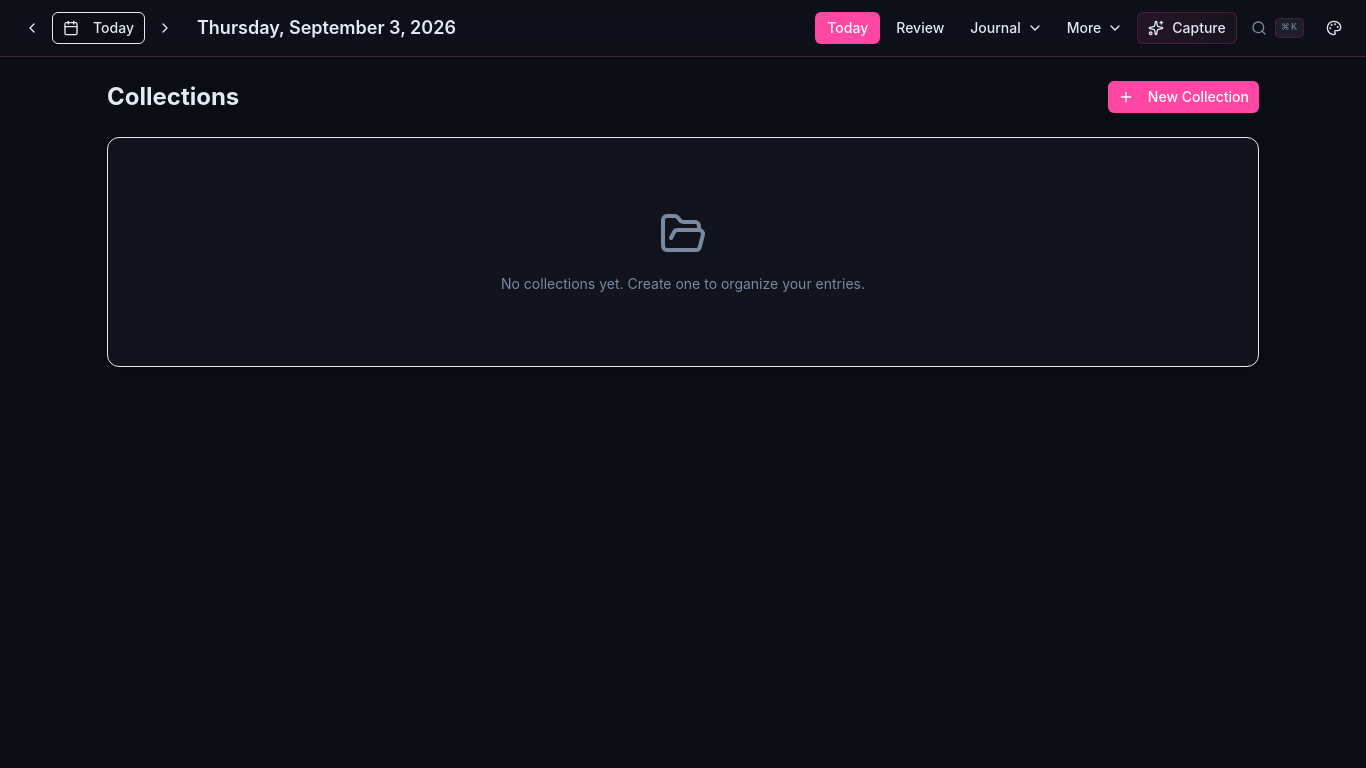
mutation failure recovery › keeps the collection dialog and title draft open when creation fails
Click the button "New Collection" at {"x": 1183, "y": 97}, box [1108, 81, 1259, 113]
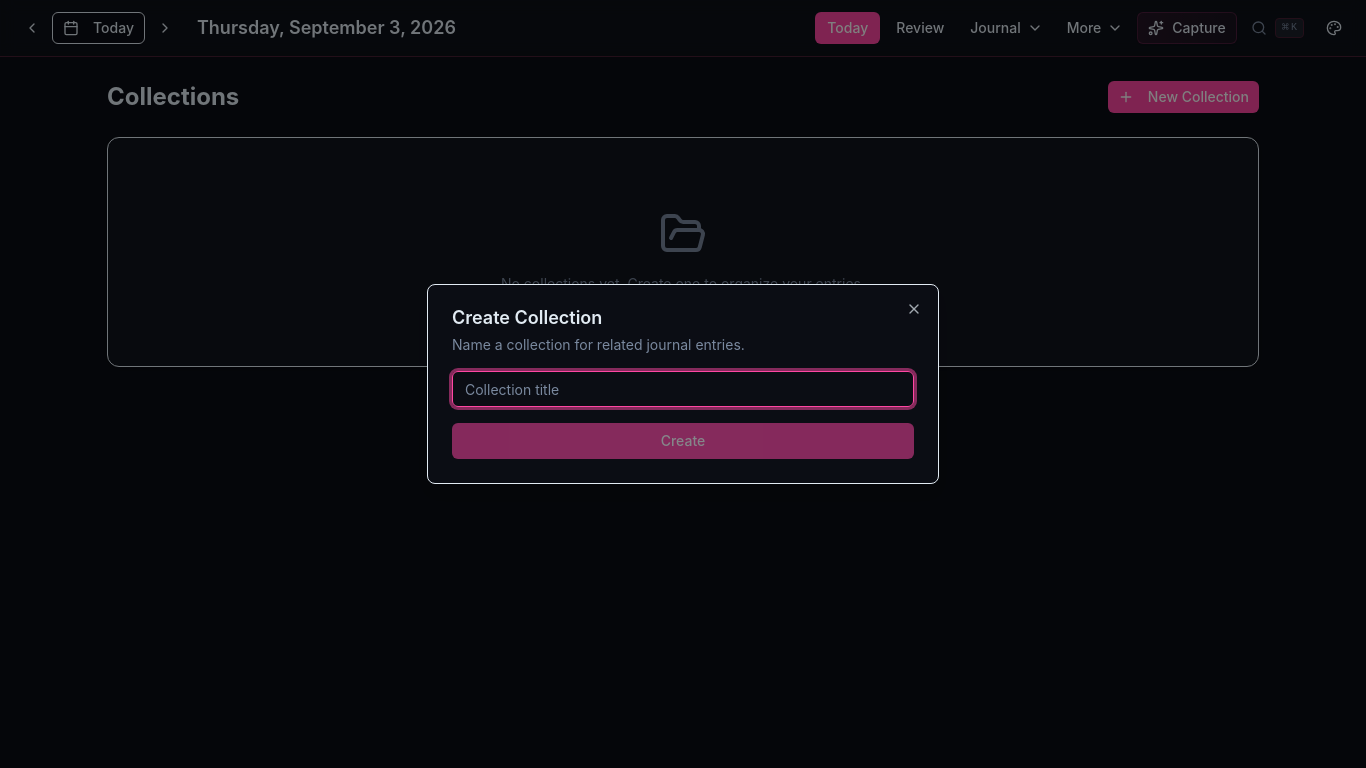
Type "Launch notes" into the field with placeholder "Collection title" at {"x": 683, "y": 389}, box [452, 371, 914, 407]
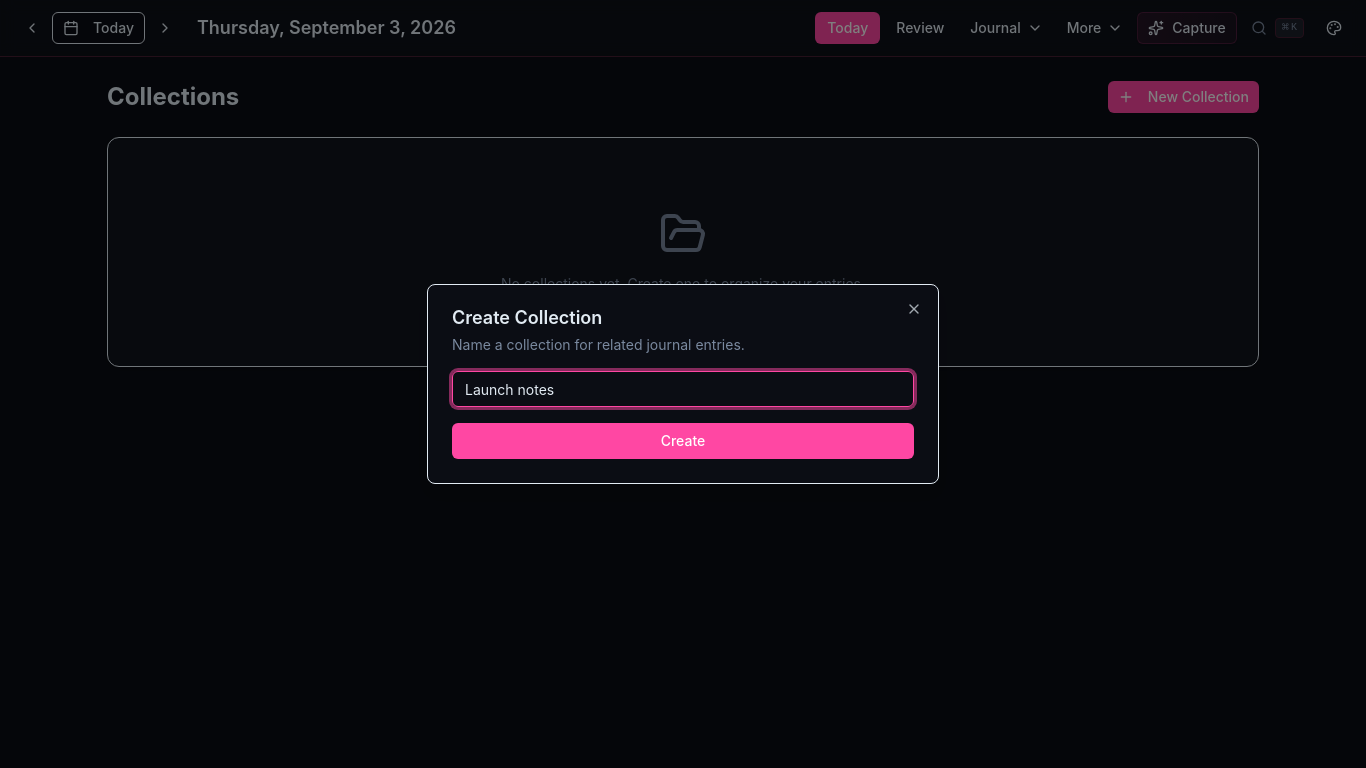
Click the button "Create" at {"x": 683, "y": 441}, box [452, 423, 914, 459]
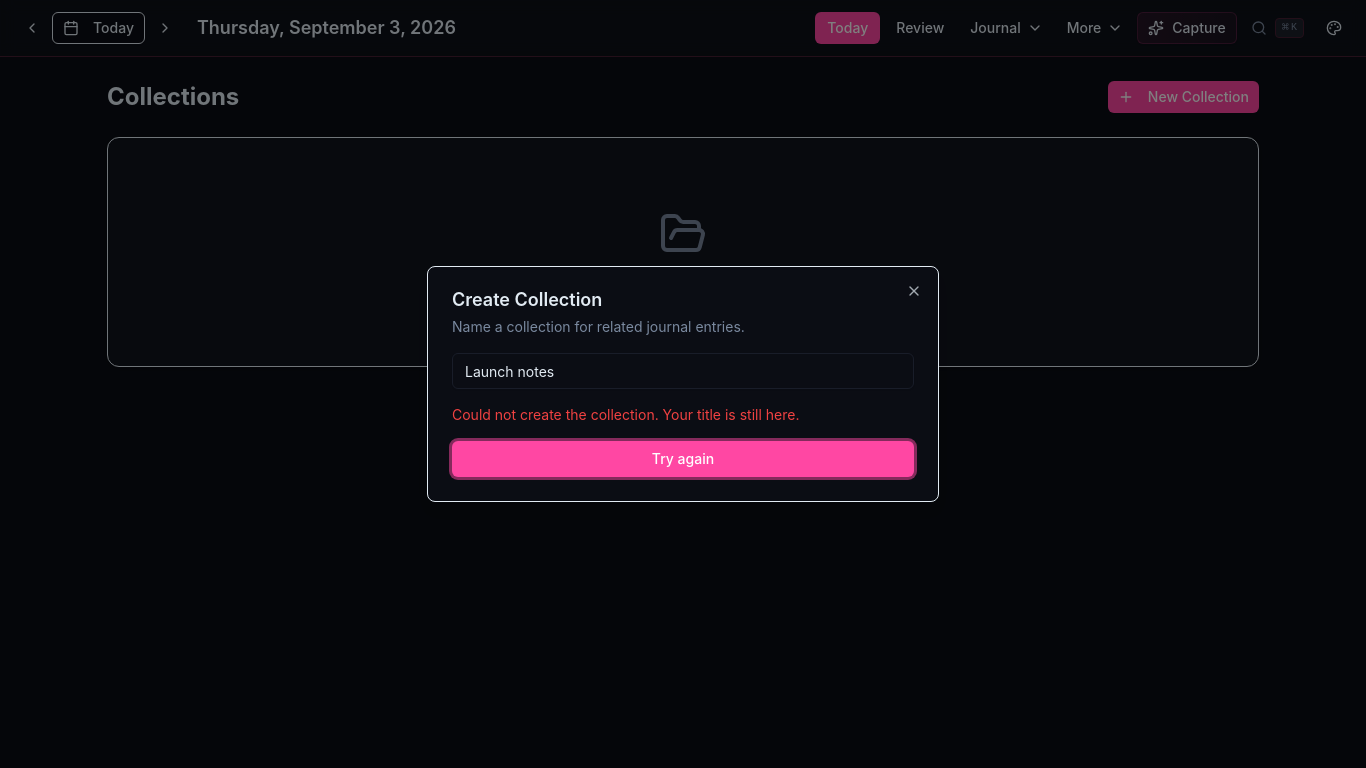
Now the dialog is shown, box [427, 266, 939, 502]
Now the message shows "Could not create", box [452, 406, 800, 423]
Now the button "Try again" is shown, box [452, 441, 914, 477]
